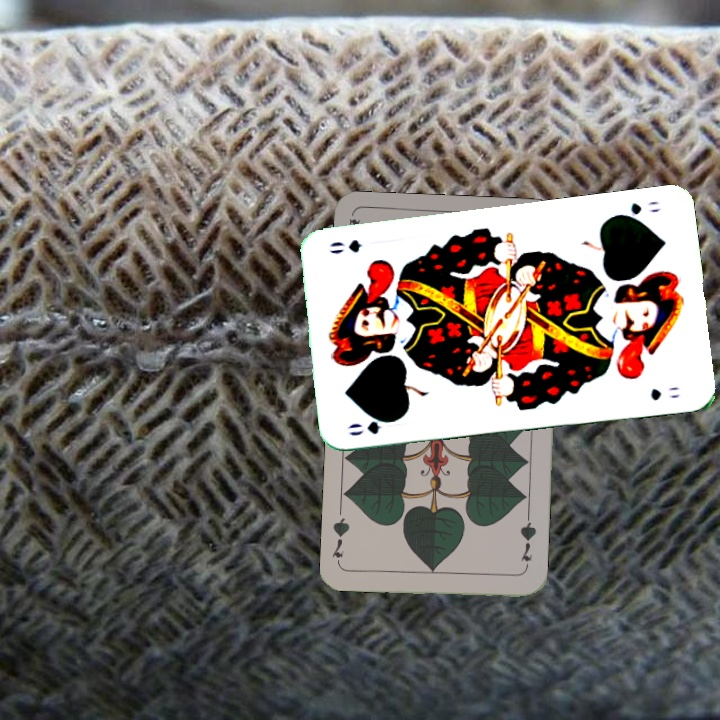G7: (516, 513, 539, 572)
GO: (343, 413, 402, 439), (609, 197, 663, 223)
